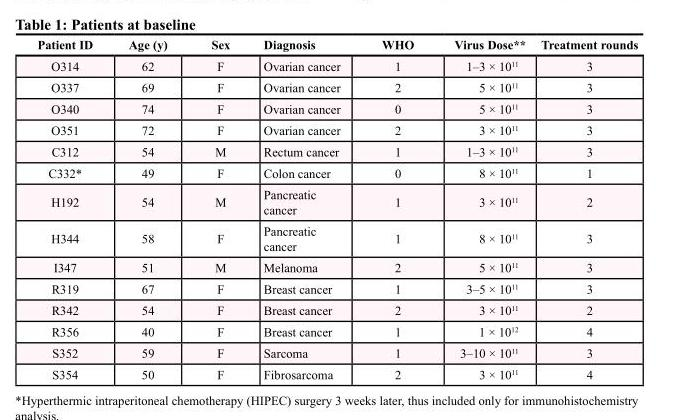table: (36, 37, 637, 380)
table column: (246, 37, 360, 380), (532, 37, 637, 380), (433, 37, 532, 380), (109, 37, 188, 380), (36, 37, 109, 380), (360, 37, 433, 380), (188, 37, 246, 380)
table column header: (36, 37, 637, 54)
table row: (36, 219, 637, 256), (36, 183, 637, 219), (36, 54, 637, 76), (36, 97, 637, 119), (36, 161, 637, 183), (36, 277, 637, 299), (36, 341, 637, 363), (36, 76, 637, 97), (36, 119, 637, 140), (36, 140, 637, 161), (36, 256, 637, 277), (36, 299, 637, 320), (36, 320, 637, 341), (36, 37, 637, 54), (36, 363, 637, 380)
